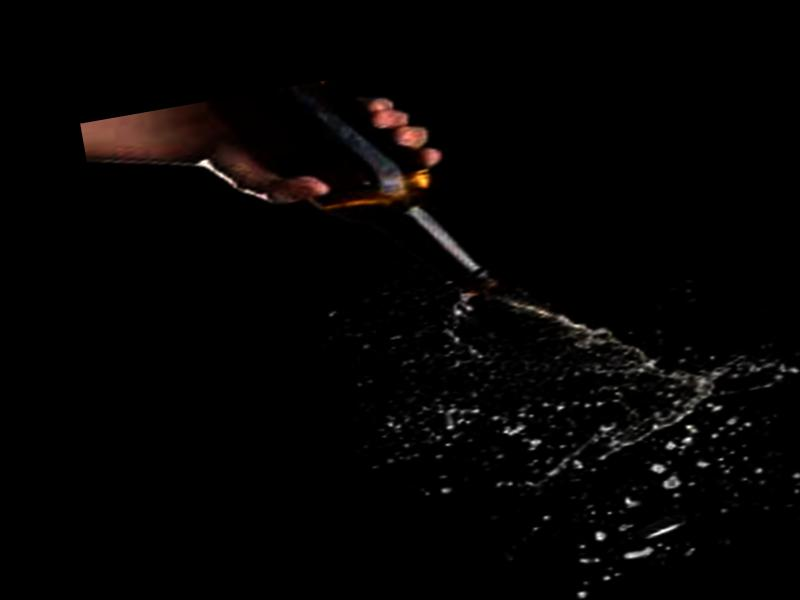Beer: (202, 57, 506, 333)
